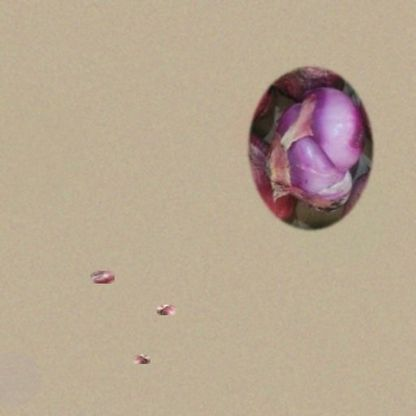damaged: (245, 61, 377, 235)
rotten: (90, 271, 115, 284)
sprouted: (157, 305, 176, 315), (133, 354, 150, 364)
